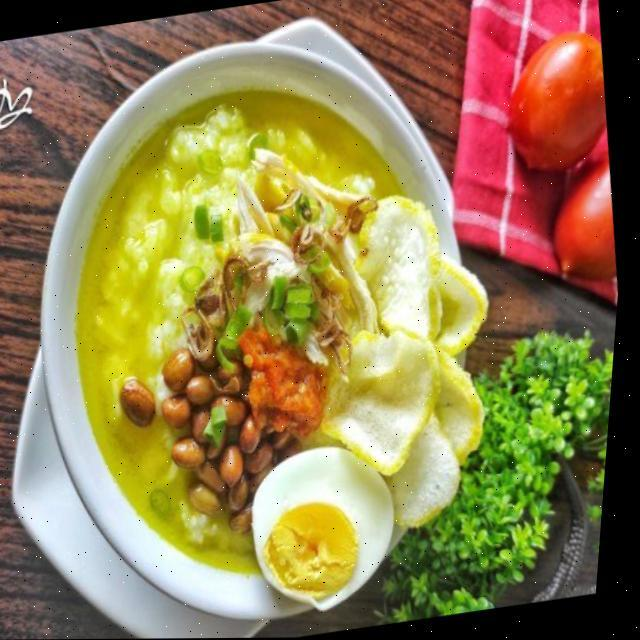bubur ayam: (24, 62, 486, 594)
mangkuk: (0, 0, 640, 640), (231, 434, 413, 624)
sambal: (229, 312, 340, 444)
